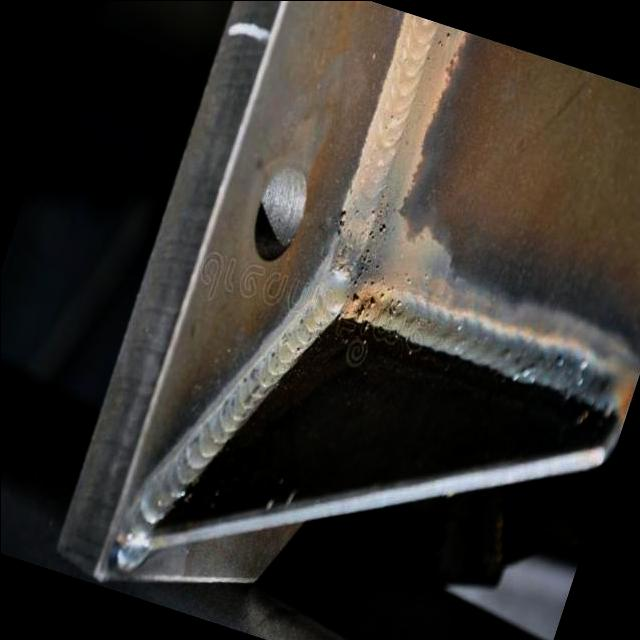defect: (347, 246, 416, 320), (334, 200, 351, 242), (365, 221, 389, 241)
